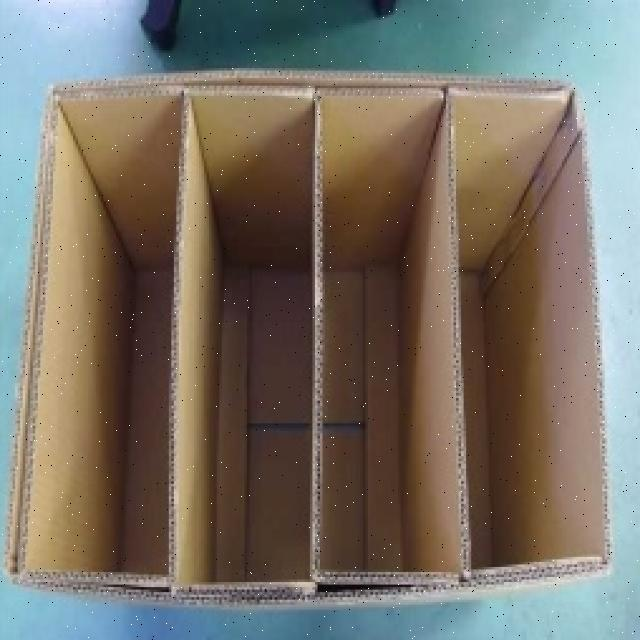box: (16, 82, 576, 608)
